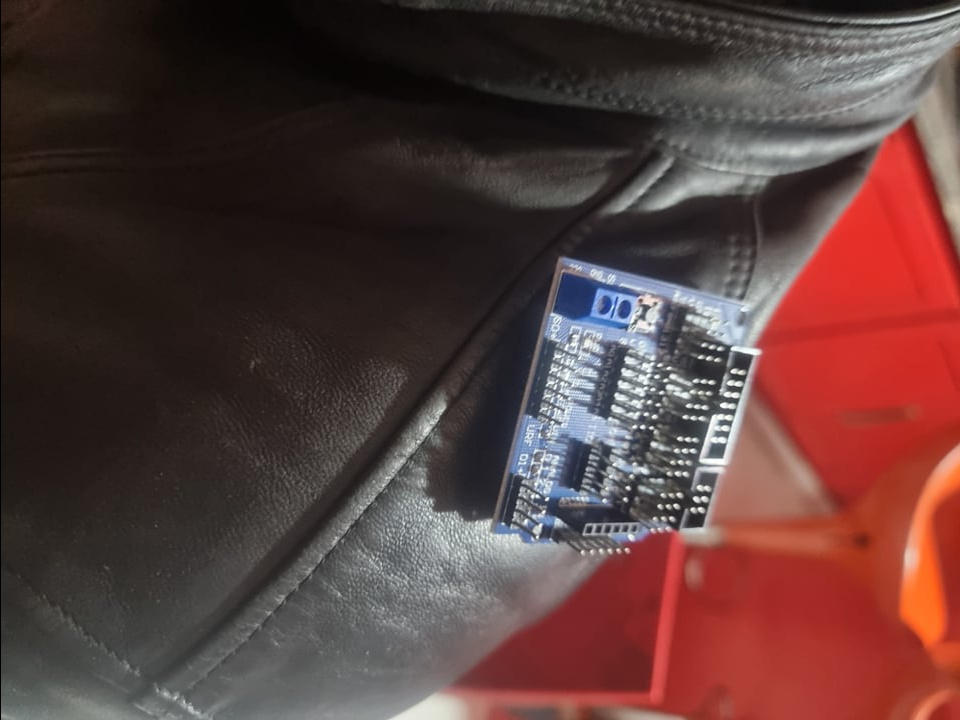5V EXPANSION: (488, 251, 761, 561)
